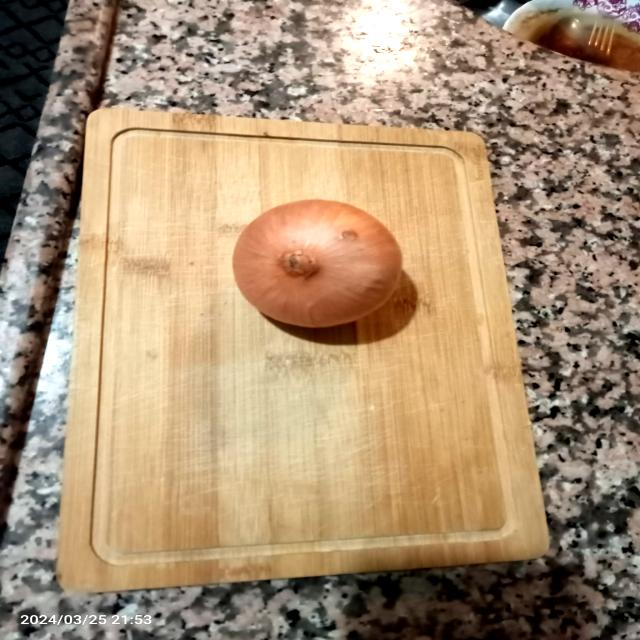onion: (198, 190, 428, 336)
